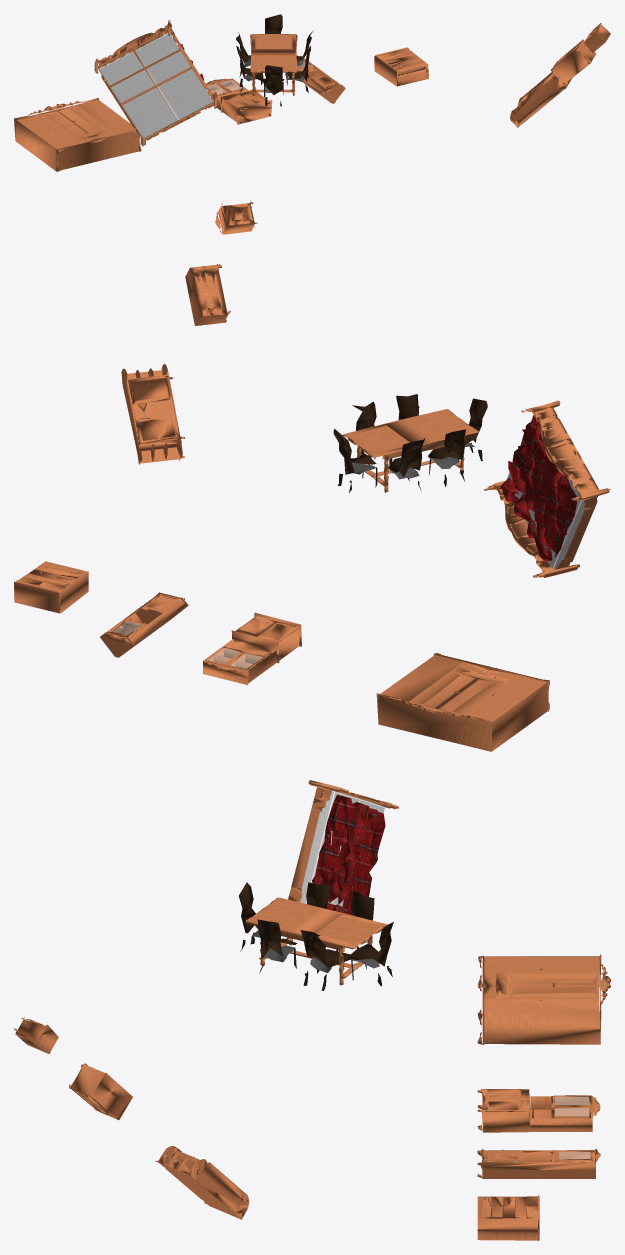
Rendered from wood_furniture.glb.
3 views of the same model, one above another, from view 1: azimuth 30°, elevation 25°; view 2: azimuth 150°, elevation 25°; view 3: azimuth 270°, elevation 25° (orthographic). The views are drawn at different scales.
Parts seen in each view (by area): view 1: body; view 2: body; view 3: body.
Part boxes in pixels (x1,y1,x2,y2): body: (14, 14, 610, 171); body: (14, 200, 610, 751); body: (14, 780, 610, 1240).
Bounding box in the file's own units: 3.59 × 1.4 × 3.1.
Materials: 8 (5 with a texture image).
